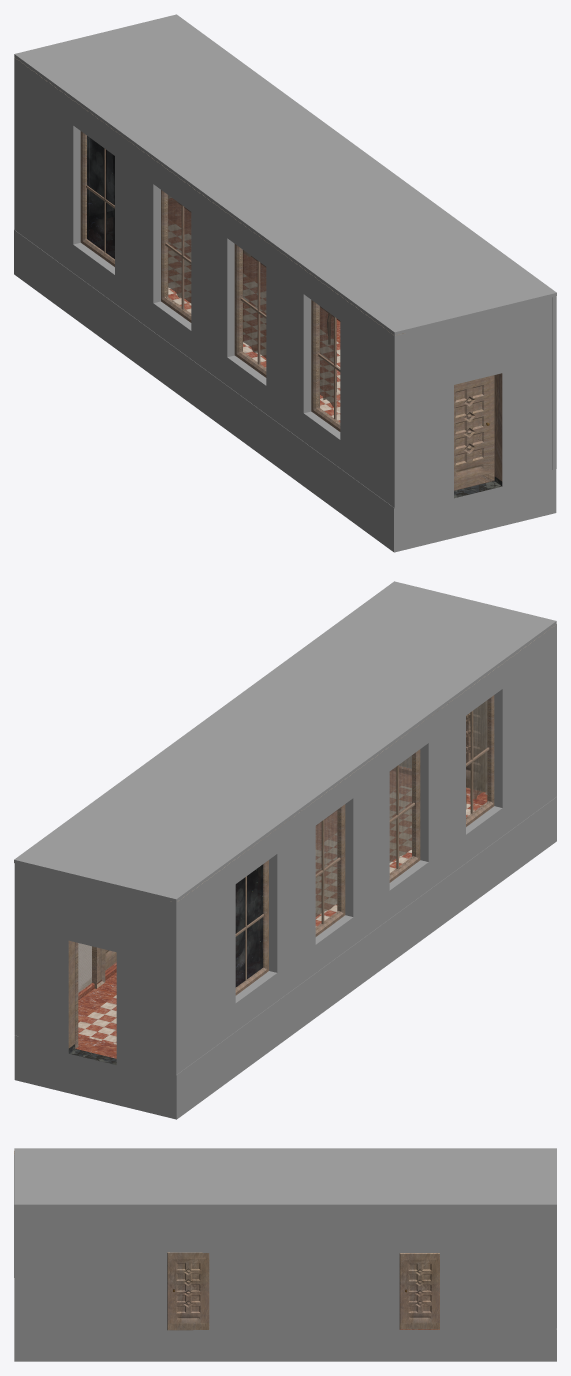
The model's file is ground_floor_main_hallway.fbx.
3 views of the same model, one above another, from view 1: azimuth 30°, elevation 25°; view 2: azimuth 150°, elevation 25°; view 3: azimuth 270°, elevation 25° (orthographic). The views are drawn at different scales.
Parts seen in each view (by area): view 1: ceiling, left_wall, long_part_of_corridor, pCube44, pPlane5, curtains:pPlane1, pPlane1, pCube65, curtains:pPlane3, pCube47, pCube66, pCube67 (+1 smaller); view 2: ceiling, left_wall, long_part_of_corridor, pPlane5, pPlane1, curtains:pPlane1, right_wall, pCube45, curtains:pPlane2, pCube65, pCube66, pCube47 (+1 smaller); view 3: right_wall, ceiling, long_part_of_corridor, pCube43, pCube68.
Boxes of the visible parts, left/top/right/bottom form: ceiling: left=14, top=14, right=556, bottom=335; left_wall: left=14, top=57, right=406, bottom=508; long_part_of_corridor: left=14, top=196, right=556, bottom=552; pCube44: left=454, top=375, right=494, bottom=490; pPlane5: left=87, top=136, right=114, bottom=258; curtains:pPlane1: left=243, top=250, right=266, bottom=358; pPlane1: left=168, top=195, right=191, bottom=303; pCube65: left=234, top=244, right=266, bottom=377; curtains:pPlane3: left=320, top=306, right=336, bottom=406; pCube47: left=311, top=300, right=340, bottom=431; pCube66: left=161, top=190, right=191, bottom=322; pCube67: left=80, top=131, right=114, bottom=266; ceiling: left=14, top=581, right=556, bottom=902; left_wall: left=161, top=624, right=556, bottom=1075; long_part_of_corridor: left=14, top=756, right=556, bottom=1119; pPlane5: left=235, top=864, right=262, bottom=987; pPlane1: left=315, top=810, right=337, bottom=916; curtains:pPlane1: left=389, top=755, right=411, bottom=862; right_wall: left=14, top=863, right=91, bottom=1036; pCube45: left=466, top=702, right=485, bottom=791; curtains:pPlane2: left=470, top=700, right=487, bottom=801; pCube65: left=389, top=749, right=420, bottom=882; pCube66: left=315, top=804, right=345, bottom=936; pCube47: left=466, top=695, right=494, bottom=826; right_wall: left=14, top=1207, right=556, bottom=1330; ceiling: left=14, top=1148, right=556, bottom=1207; long_part_of_corridor: left=14, top=1207, right=556, bottom=1361; pCube43: left=167, top=1252, right=209, bottom=1330; pCube68: left=399, top=1253, right=439, bottom=1329.
Bounding box in the file's own units: 21.32 × 26.81 × 83.95.
